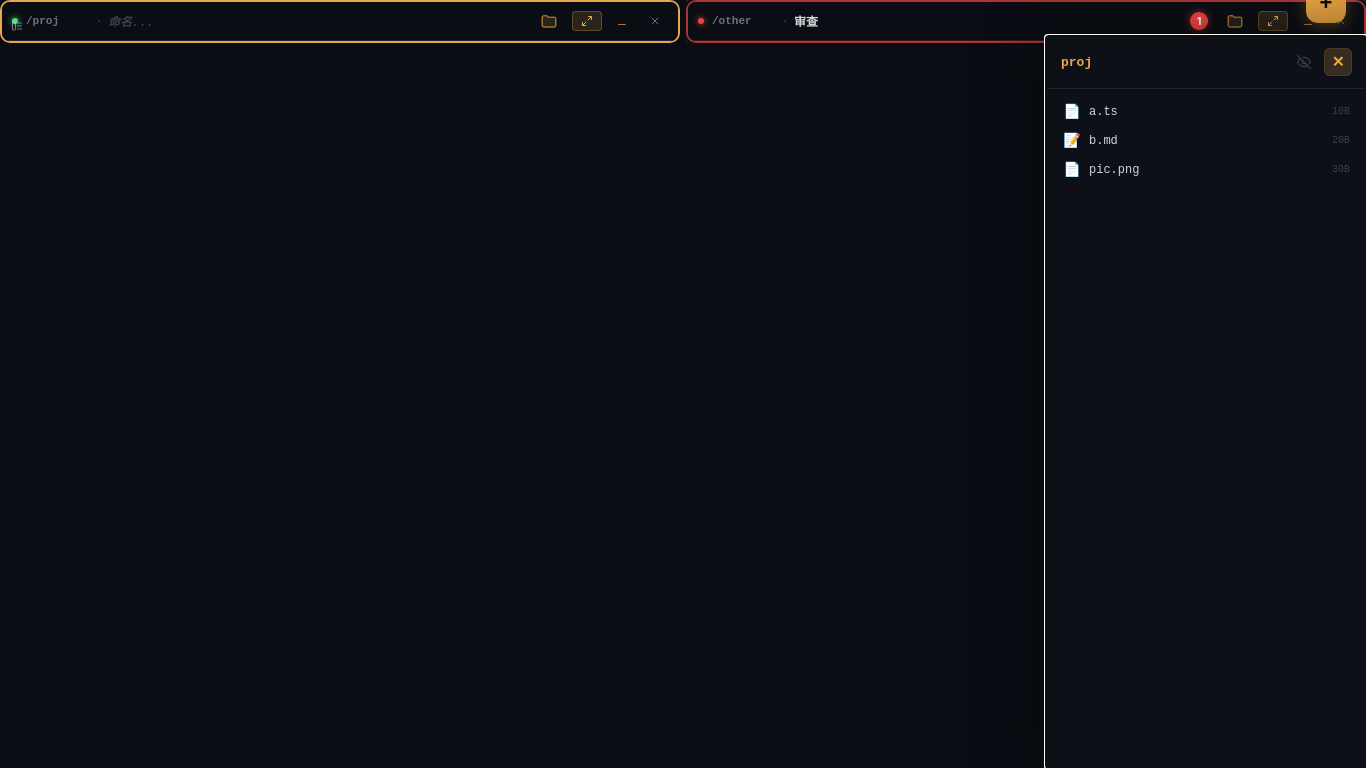
file-tabs 终端状态灯组（§2.5） › ⑰ 点灯后回切文件 tab，displayed(t2) 被关 → 归位 owner 且不夺文件 tab 焦点；灯组随之隐藏
The width and height of the screenshot is (1366, 768).
Click the element showing "📄 a.ts 10B".
click(1072, 112)  # box [1063, 104, 1350, 120]
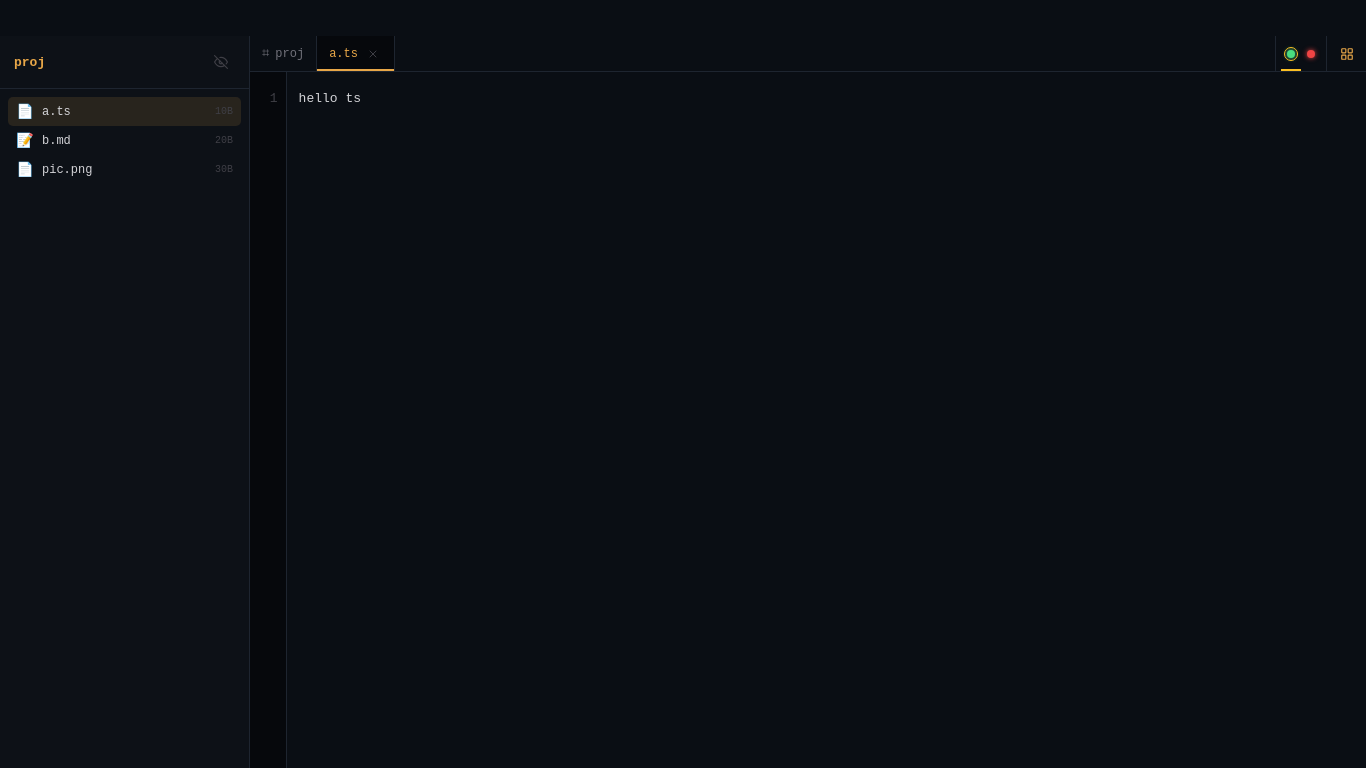
Click the button named "审查 · 等待输入".
click(1311, 54)  # box [1301, 36, 1321, 71]
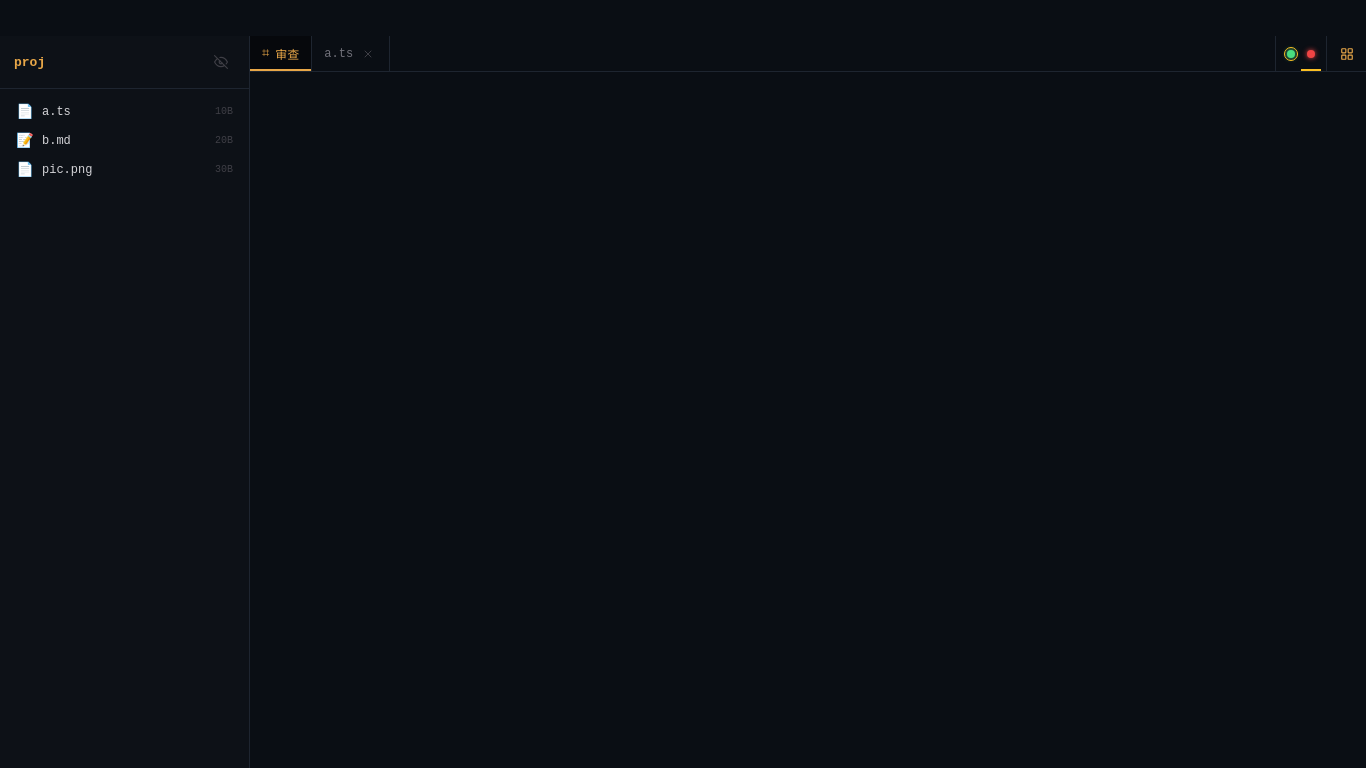
Click the element with class "file-tabs-view__tab" showing "a.ts".
click(351, 54)  # box [312, 36, 390, 71]
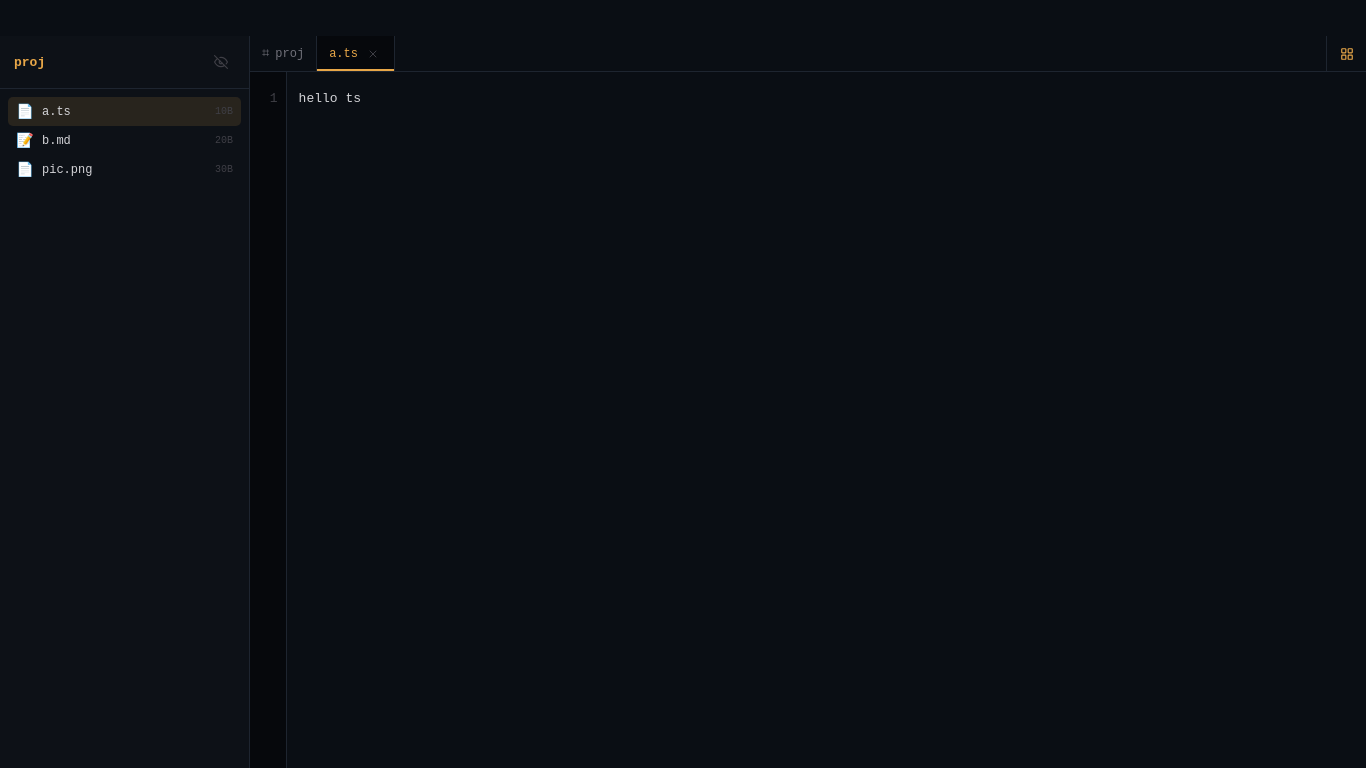
Check: the element with class "file-tabs-view" is shown
Check: the 2nd text with class "file-tabs-view__tab-name" reads "proj", box [275, 46, 304, 60]
Check: the element with class "file-tabs-view__lights" is gone
